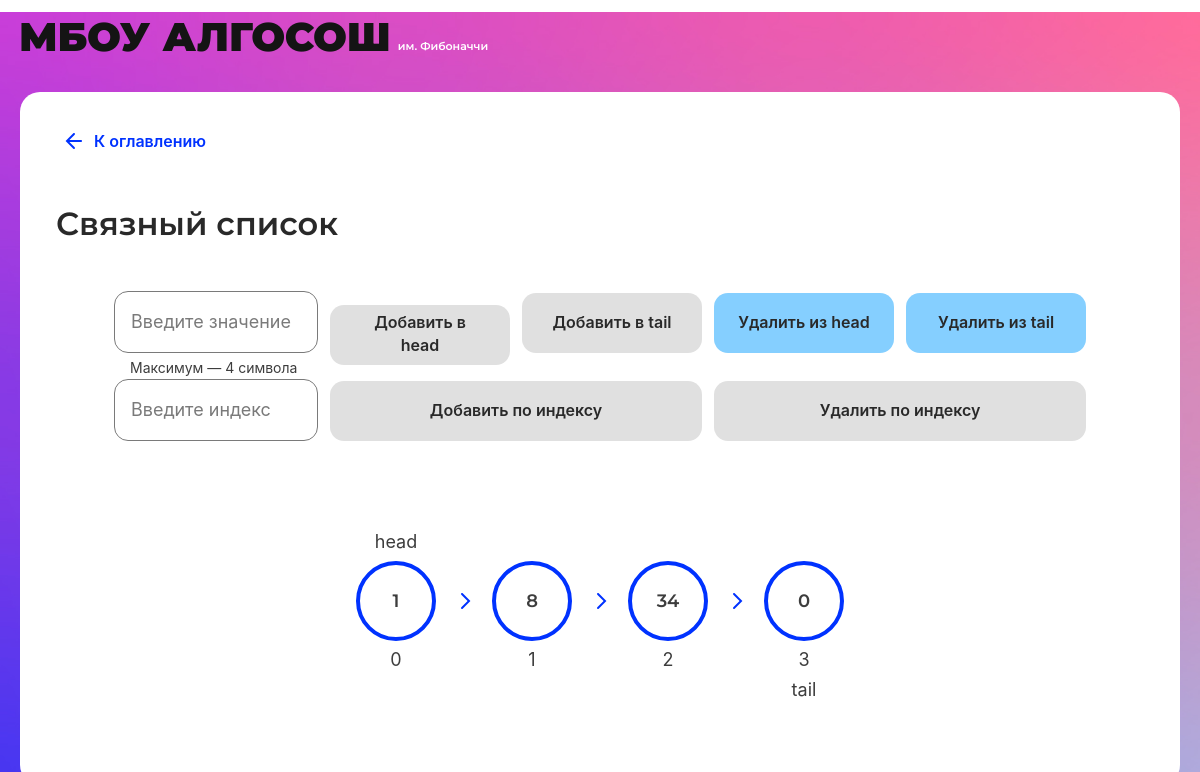
Scenario: List tests › should remove an element from the head correctly
Click the button with test id "button-remove-head".
click(804, 323)  # box [714,293,894,353]
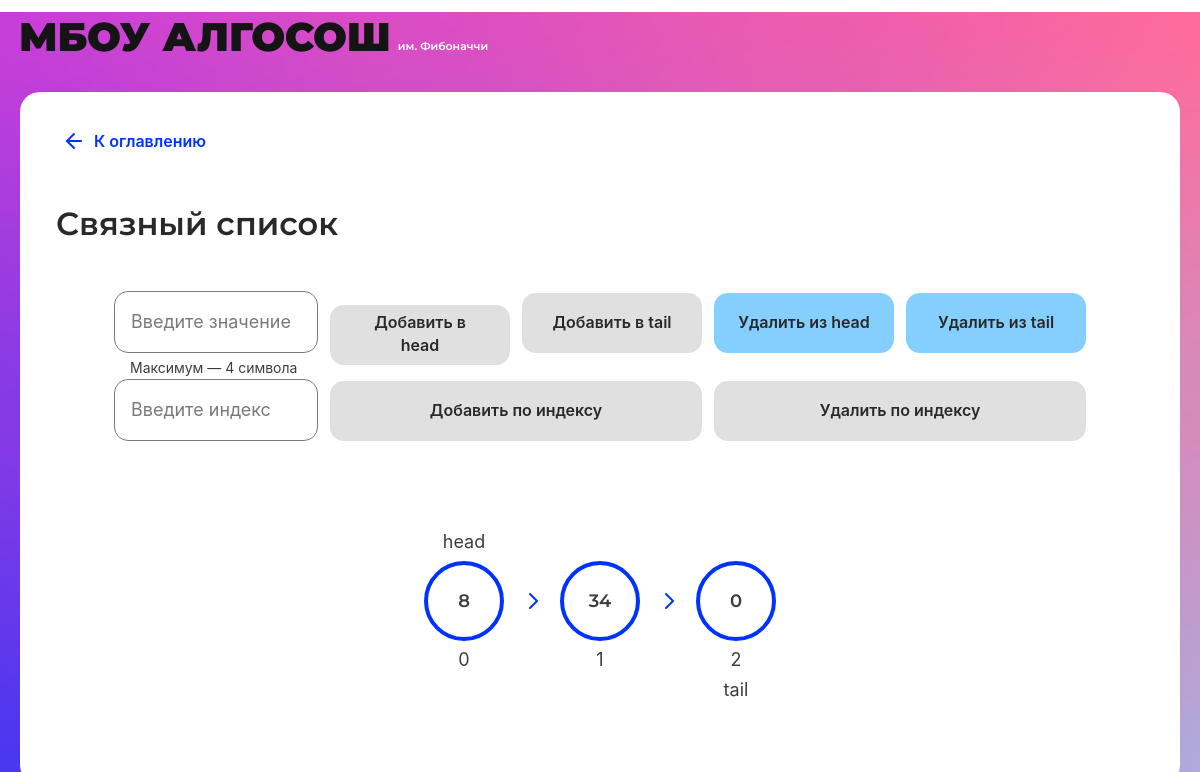
Expected: the element with test id "circle-wrapper" showing "head 8 0" is shown, [424,561,504,641]
Expected: the text with test id "circle_letter" reads "8", [458,590,470,612]
